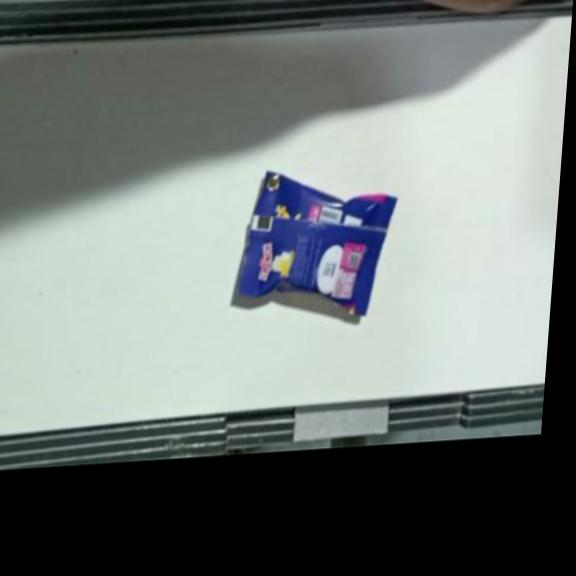Plastik: (233, 164, 400, 325)
